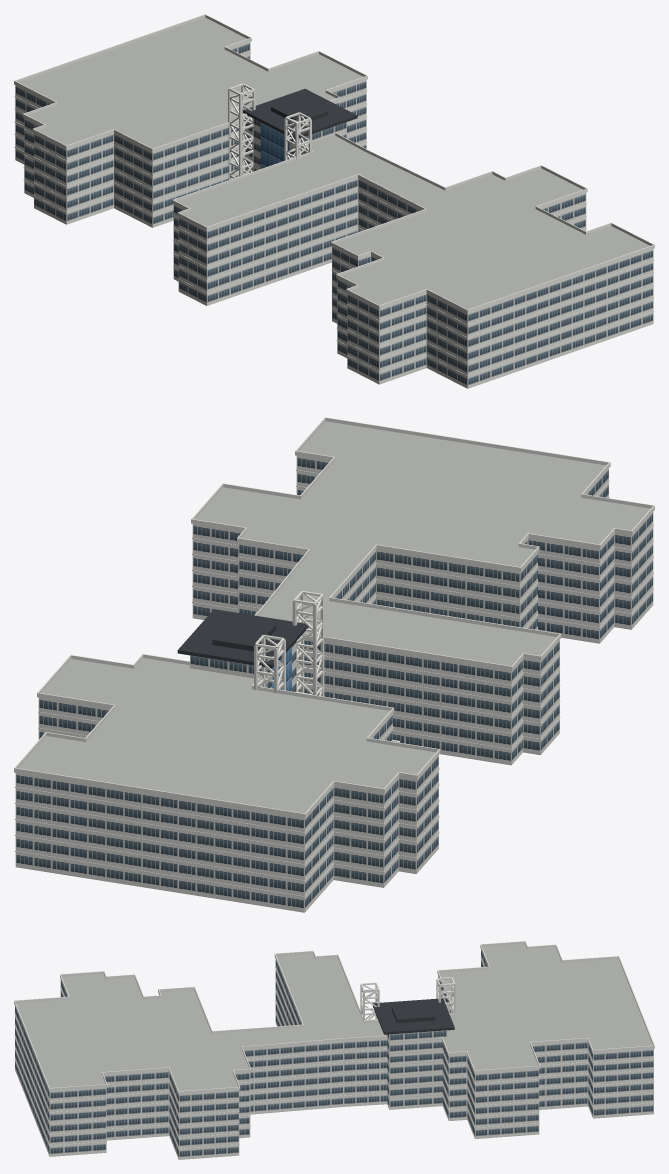
The model's file is wendelou.glb.
3 renders of one model, top to bottom at view 1: azimuth 30°, elevation 25°; view 2: azimuth 150°, elevation 25°; view 3: azimuth 270°, elevation 25°, orthographic. The views are drawn at different scales.
Parts seen in each view (by area): view 1: 文德楼_主体, 文德楼_门楼; view 2: 文德楼_主体, 文德楼_门楼; view 3: 文德楼_主体, 文德楼_门楼.
Boxes of the visible parts, x1,y1,x2,y2 form: 文德楼_主体: (14, 14, 654, 388); 文德楼_门楼: (228, 83, 357, 179); 文德楼_主体: (14, 417, 654, 912); 文德楼_门楼: (177, 591, 399, 742); 文德楼_主体: (14, 941, 654, 1159); 文德楼_门楼: (360, 977, 455, 1109).
Bounding box in the file's own units: 109 × 33.36 × 197.
Materials: 6 (2 with a texture image).
